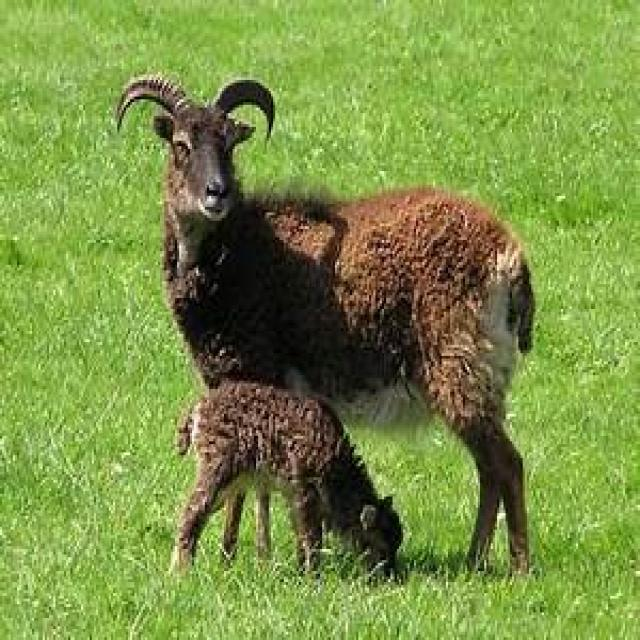goat: (113, 74, 538, 577), (173, 381, 399, 579)
